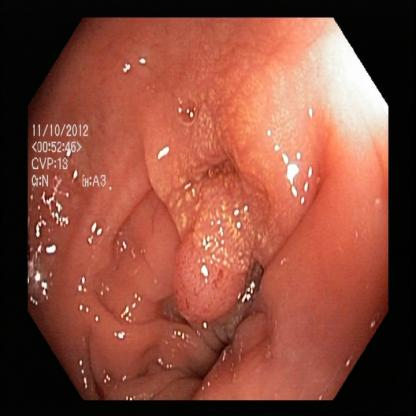Labels: (32, 121, 116, 202)
Polyps: (237, 94, 314, 211), (178, 209, 248, 320)
